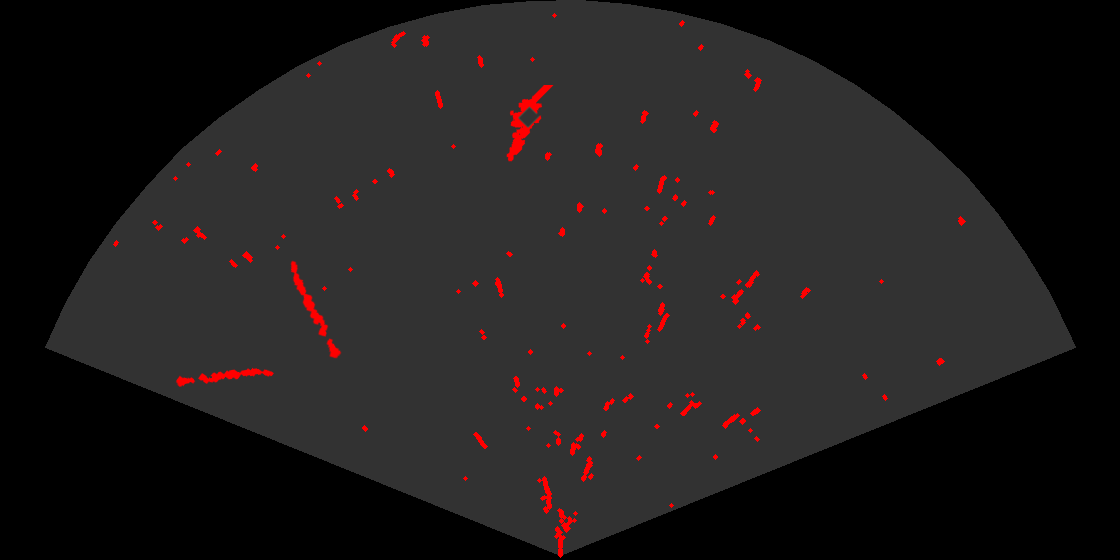chain: (289, 259, 343, 360), (173, 366, 275, 388)
frogman: (505, 85, 555, 163)
